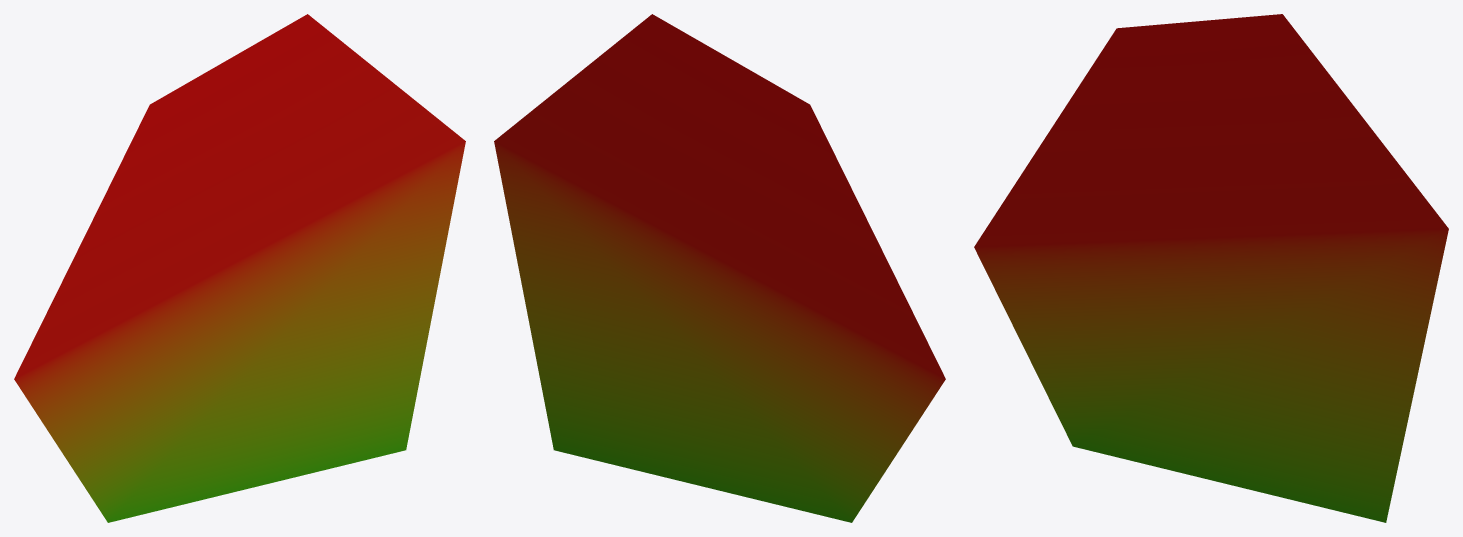
The model's file is Var2_LOD3.fbx.
3 renders of one model, left to right at view 1: azimuth 30°, elevation 25°; view 2: azimuth 150°, elevation 25°; view 3: azimuth 330°, elevation 25°, orthographic. The views are drawn at different scales.
Visible parts, largest first — view 1: _3a5d_Var2_LOD3; view 2: _3a5d_Var2_LOD3; view 3: _3a5d_Var2_LOD3.
Boxes of the visible parts, x1=… form: _3a5d_Var2_LOD3: x1=14, y1=14, x2=465, y2=522; _3a5d_Var2_LOD3: x1=494, y1=14, x2=945, y2=522; _3a5d_Var2_LOD3: x1=974, y1=14, x2=1448, y2=522.
Size of the model in its own units: 214 by 208 by 1e-05.
